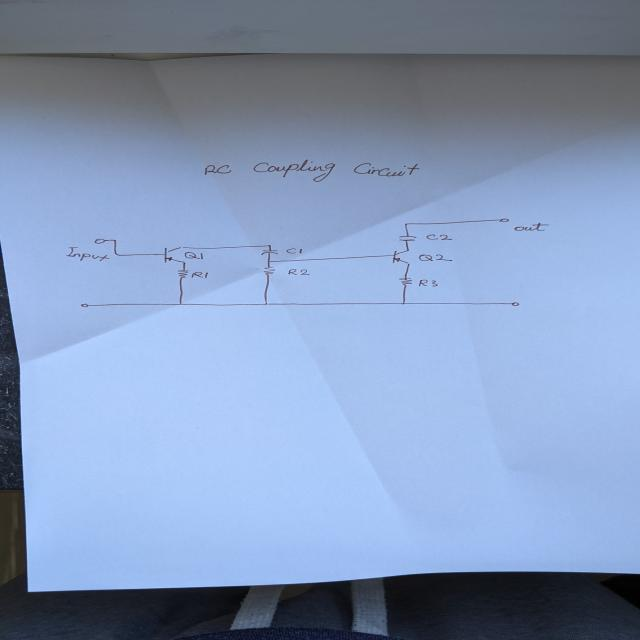capacitor: (397, 234, 419, 242), (260, 248, 280, 256)
junction: (262, 300, 270, 306), (400, 301, 408, 305), (112, 252, 119, 256), (177, 302, 184, 306), (266, 259, 272, 263), (112, 238, 118, 242), (266, 244, 273, 247), (403, 222, 409, 225)
resistor: (397, 277, 413, 287), (176, 269, 190, 279), (262, 266, 276, 276)
terminal: (92, 238, 106, 244), (78, 302, 91, 308), (497, 217, 510, 223), (510, 301, 520, 307)
text: (201, 158, 420, 182), (65, 246, 110, 262), (512, 222, 550, 231), (417, 253, 454, 262), (424, 233, 454, 240), (183, 251, 204, 260), (286, 268, 312, 275), (417, 279, 439, 287), (190, 271, 208, 279), (284, 248, 304, 254)
transistor: (161, 246, 188, 264), (391, 248, 412, 265)
